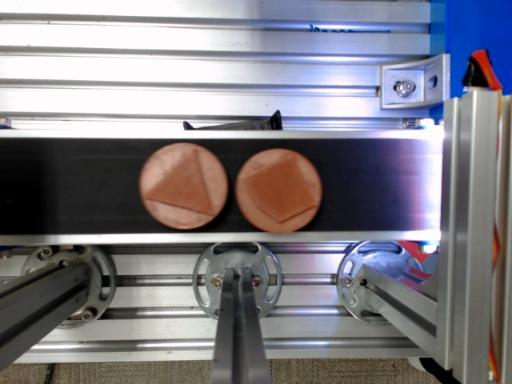Brown_Waper: (139, 142, 228, 229), (236, 149, 322, 233)
